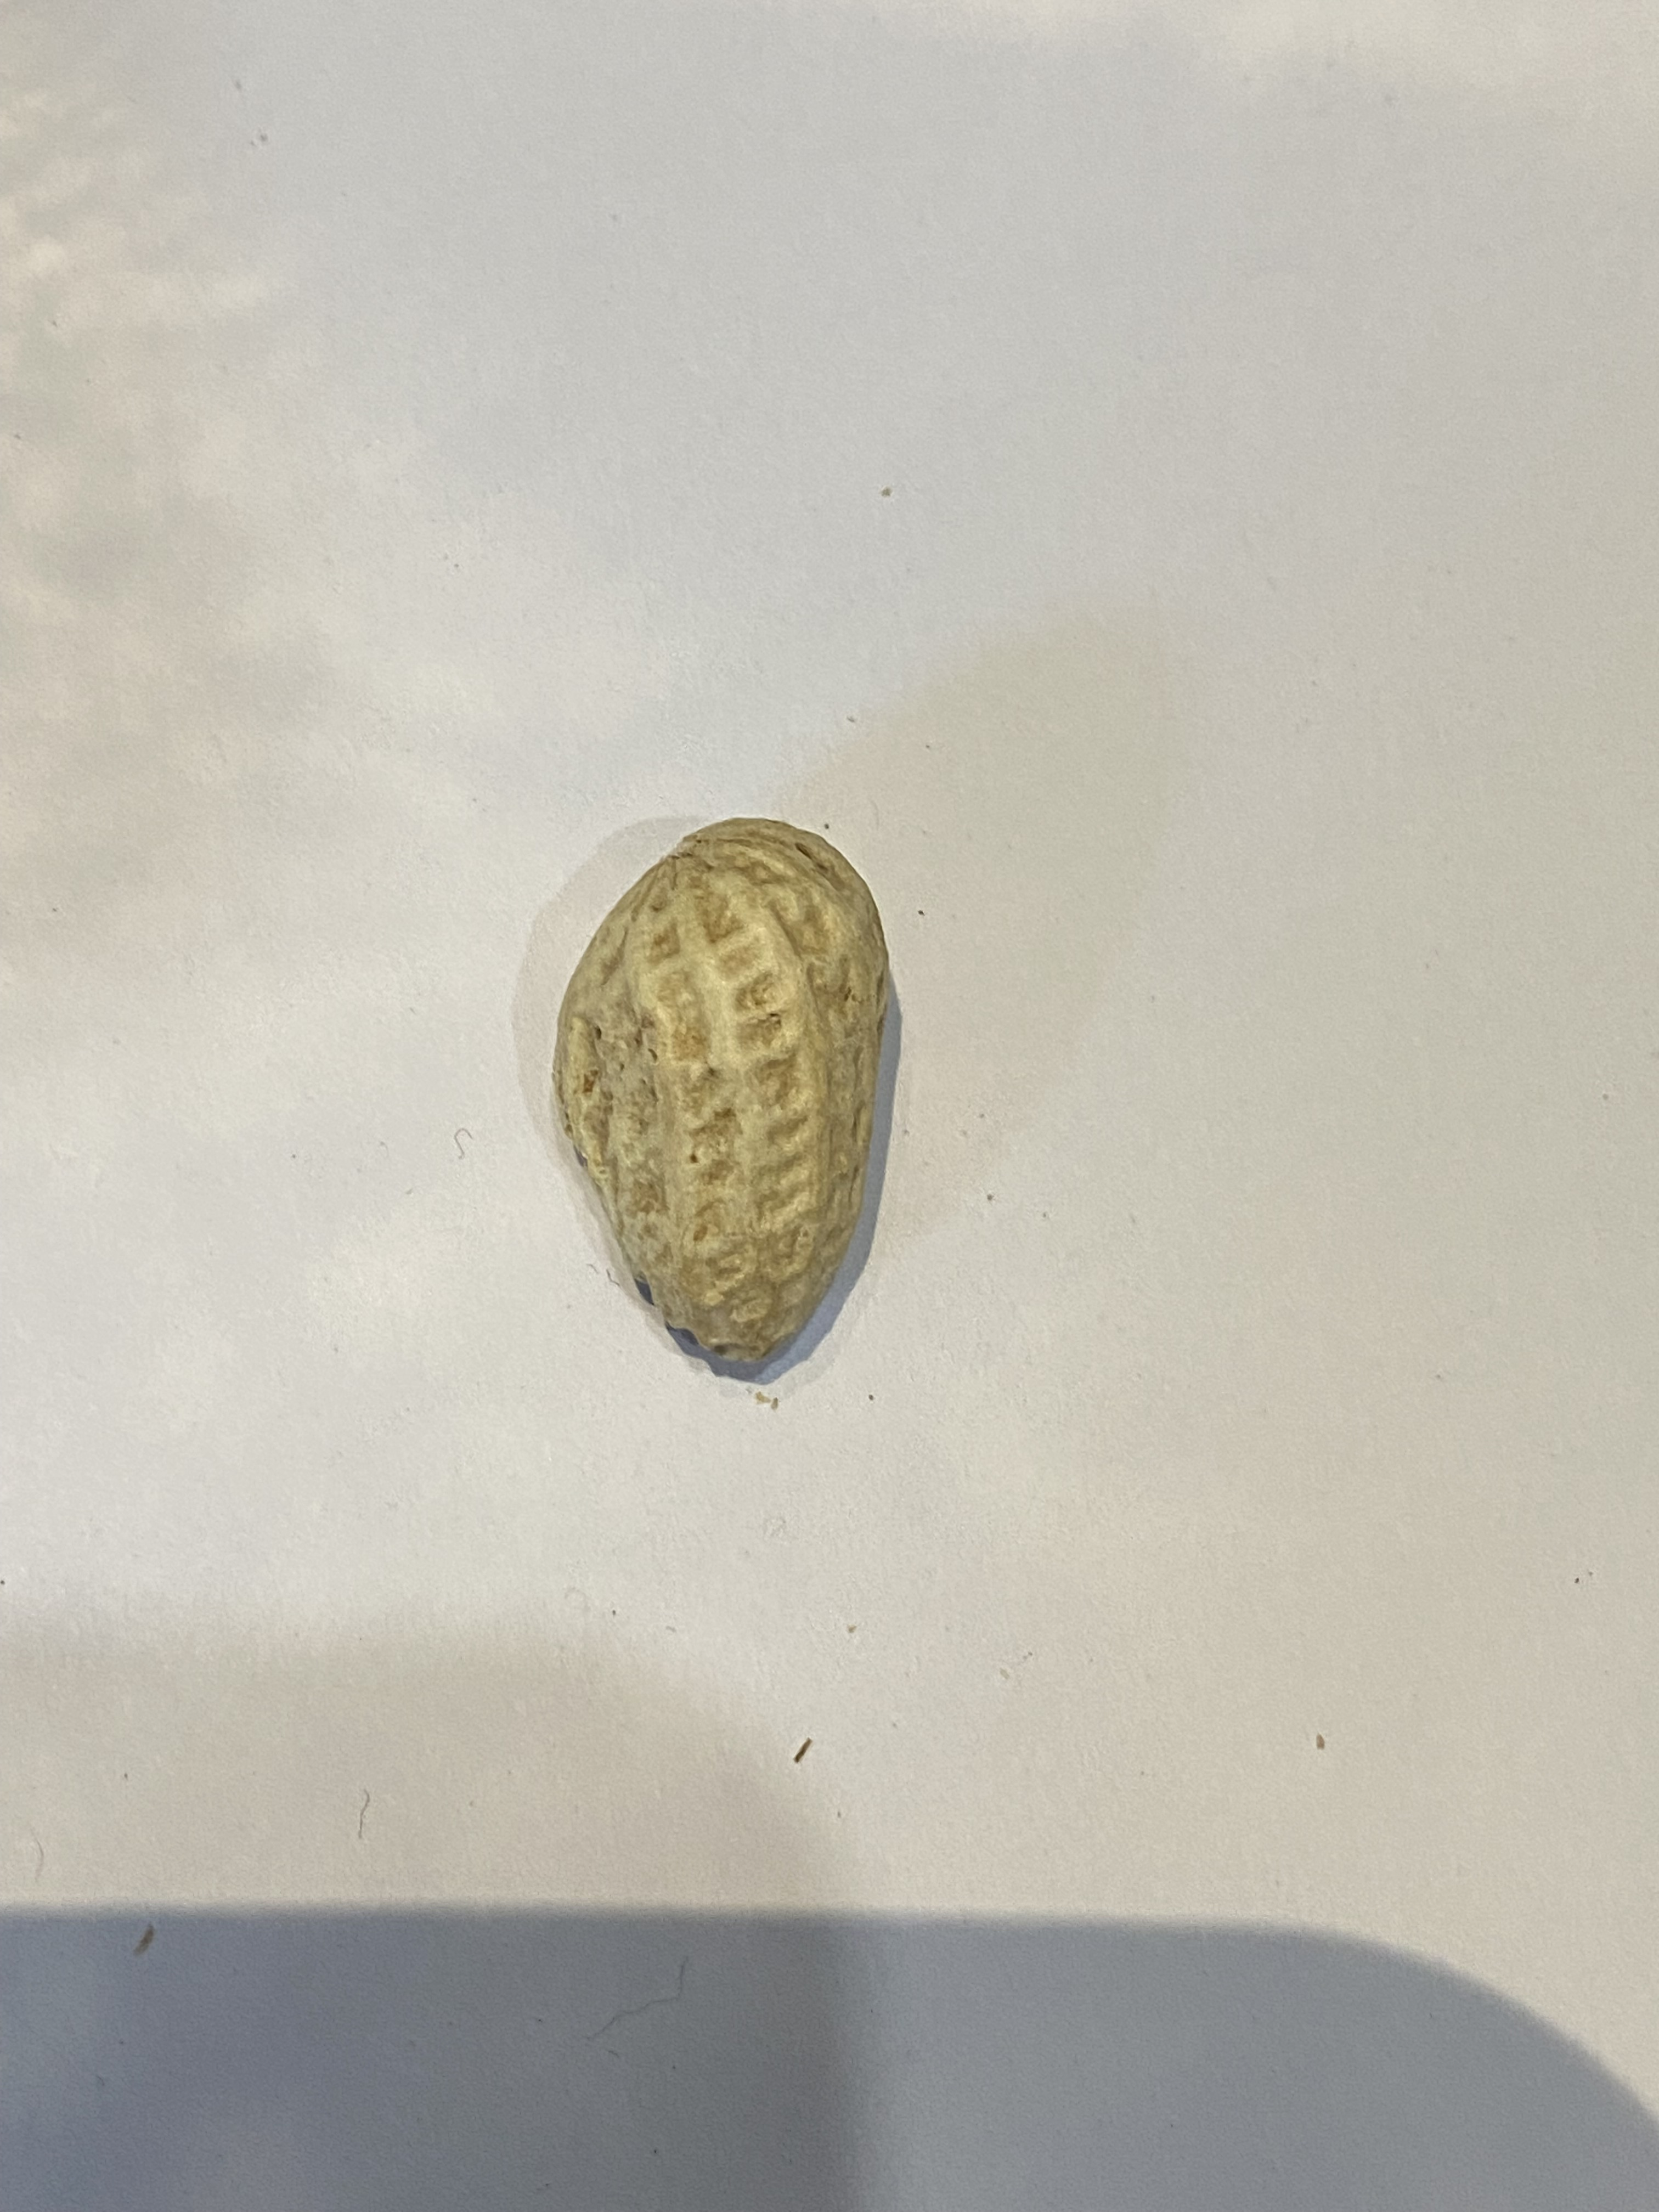kacang1: (538, 770, 913, 1390)
